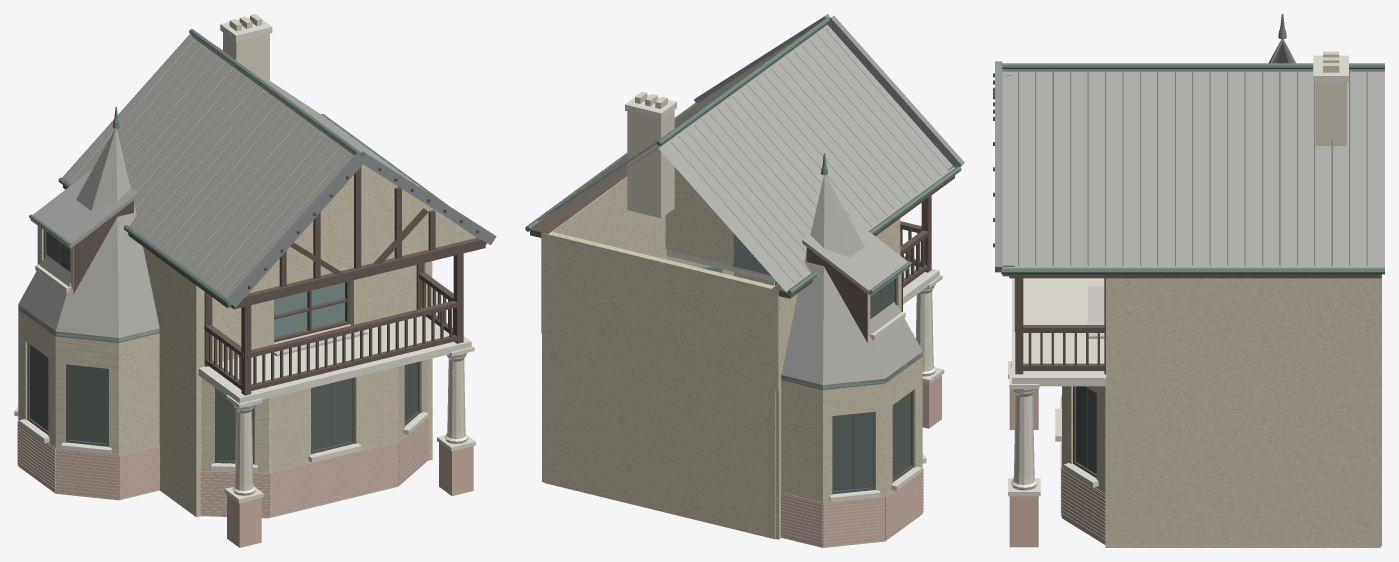
The model's file is jingan-soong-family-residence-east-gable-lod.glb.
3 views of the same model, side by side, from view 1: azimuth 30°, elevation 25°; view 2: azimuth 150°, elevation 25°; view 3: azimuth 270°, elevation 25° (orthographic). The views are drawn at different scales.
Visible parts, largest first — view 1: 宋氏花园住宅主楼东山墙与南园折角窗; view 2: 宋氏花园住宅主楼东山墙与南园折角窗; view 3: 宋氏花园住宅主楼东山墙与南园折角窗.
Part boxes in pixels (box(x1,y1,x2,y2)): 宋氏花园住宅主楼东山墙与南园折角窗: box(14, 14, 496, 547); 宋氏花园住宅主楼东山墙与南园折角窗: box(525, 14, 964, 547); 宋氏花园住宅主楼东山墙与南园折角窗: box(993, 14, 1384, 547).
Size of the model in its own units: 9.31 by 10.22 by 8.23.
Materials: 14 (1 with a texture image).
